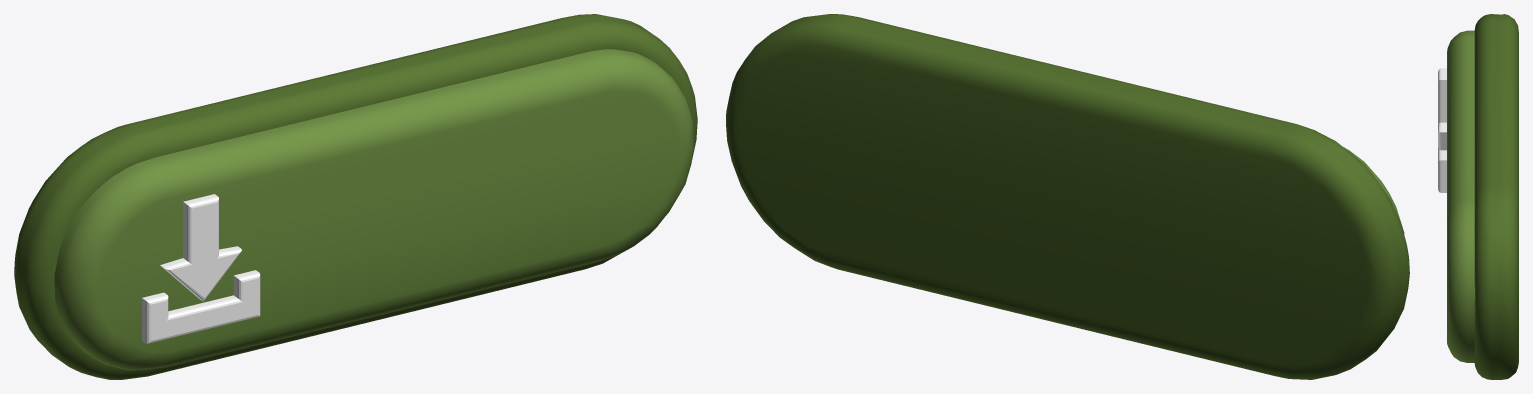
The model's file is button.glb.
The picture shows the model from 3 angles, left to right: view 1: azimuth 30°, elevation 25°; view 2: azimuth 150°, elevation 25°; view 3: azimuth 270°, elevation 25°; orthographic projection. The views are drawn at different scales.
Parts seen in each view (by area): view 1: button-face, button-base, button-icon; view 2: button-base; view 3: button-base, button-face, button-icon.
Part boxes in pixels (bbox=[...]): button-face: bbox=[54, 49, 693, 370]; button-base: bbox=[14, 14, 697, 379]; button-icon: bbox=[142, 194, 260, 343]; button-base: bbox=[726, 14, 1409, 379]; button-base: bbox=[1474, 14, 1518, 379]; button-face: bbox=[1447, 30, 1474, 362]; button-icon: bbox=[1438, 68, 1446, 192].
Bounding box in the file's own units: 2.12 × 0.74 × 0.292.
